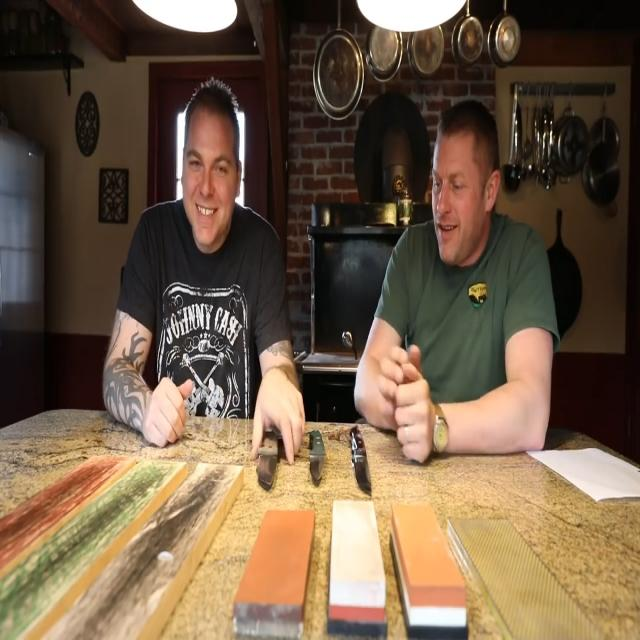knife: (348, 419, 378, 509), (255, 426, 283, 503), (308, 423, 328, 510)
